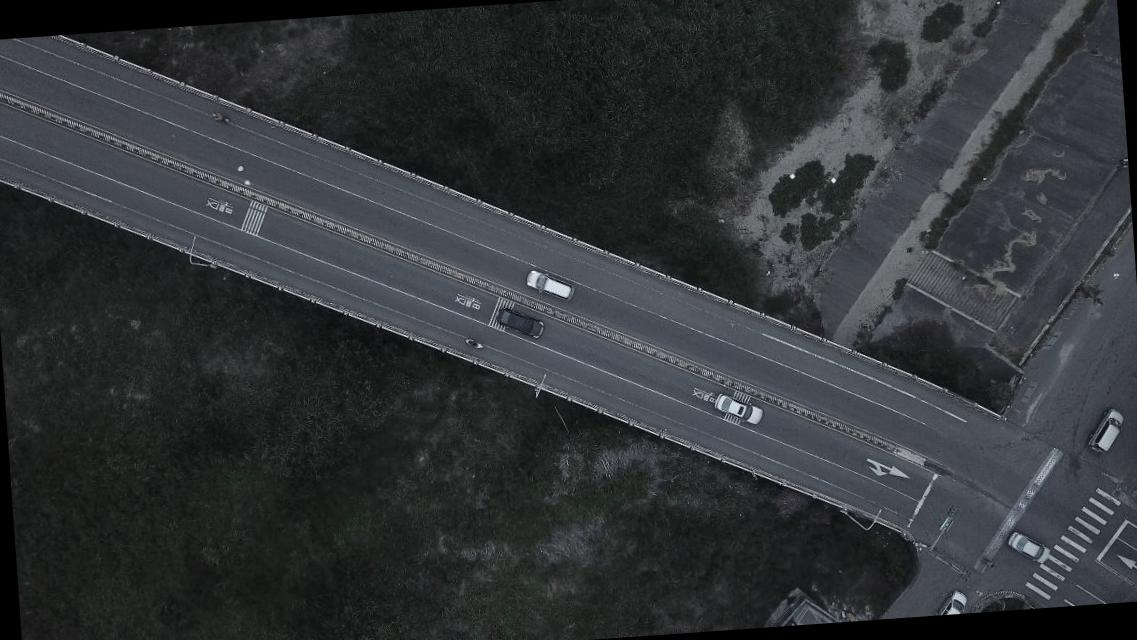vehicle: (713, 389, 764, 428), (524, 265, 574, 303), (494, 303, 544, 341), (1086, 408, 1126, 454), (1007, 531, 1053, 566), (936, 589, 969, 614)
